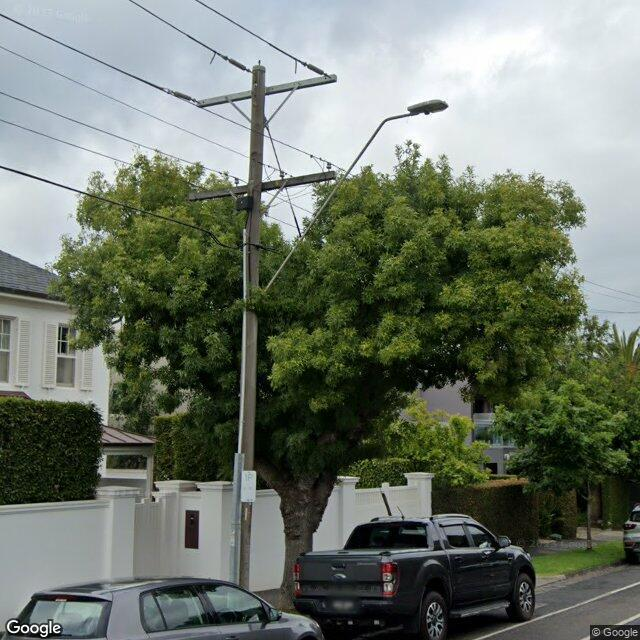HV-transmission: (163, 50, 338, 109)
crossarm: (186, 154, 338, 202), (197, 74, 338, 108)
streetlight: (260, 99, 450, 296)
timber-pole: (232, 64, 266, 592)
